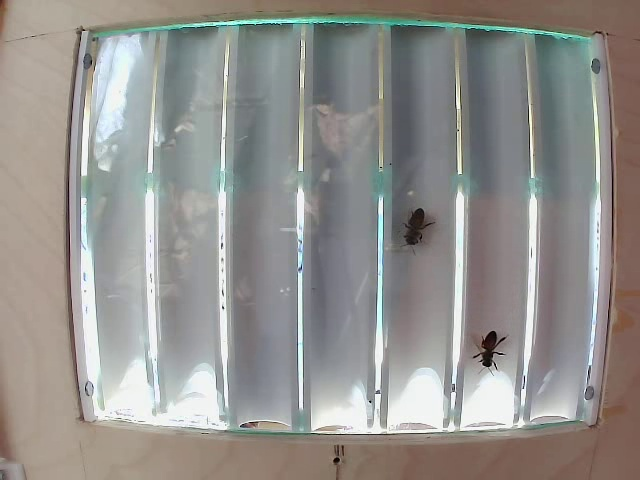bee: (400, 199, 431, 250), (474, 321, 501, 361)
